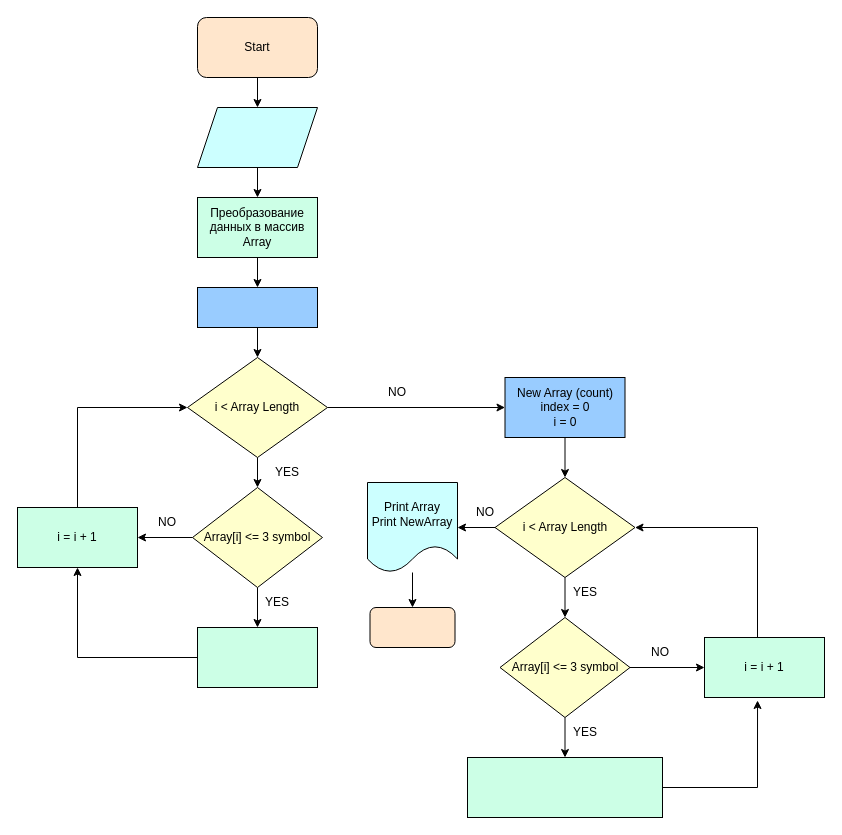
The diagram is 842 pixels wide and 835 high, and some of its shapes have lost their labels. The centre of each missing label's shape, as x and y in pixels:
"count = 0 i = 0" goes at [257,307].
"count = count + 1" goes at [257,657].
"END" goes at [412,627].
"NewArray[index] = Array[i] index = index + 1" goes at [564,787].
"Ввод данных" goes at [257,137].
